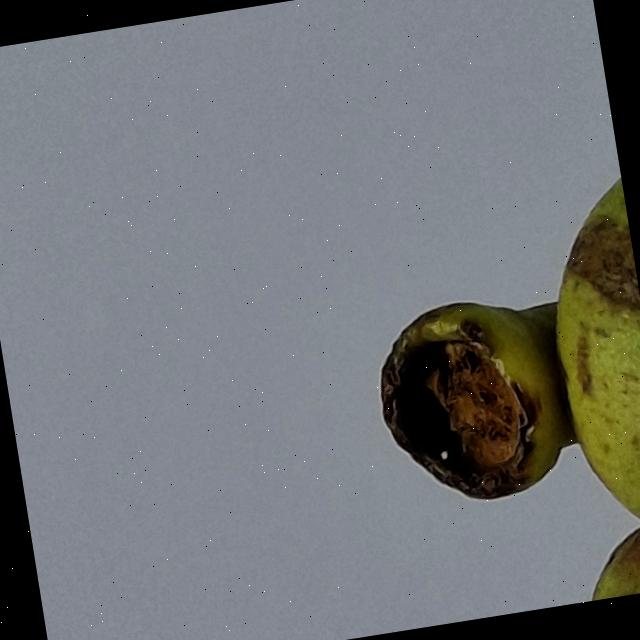mangosteen: (324, 0, 640, 627)
